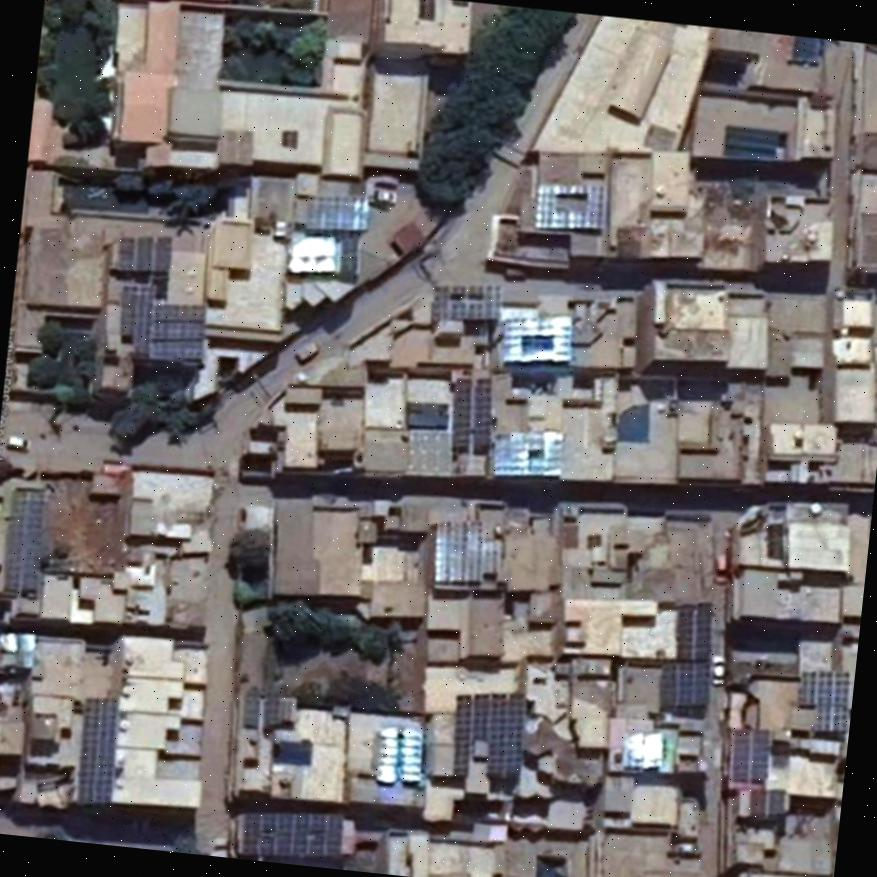Solarpanel: (456, 693, 523, 774), (243, 810, 343, 853), (435, 522, 502, 581), (79, 697, 117, 800), (5, 490, 41, 588), (536, 183, 606, 229), (501, 316, 571, 362), (495, 431, 565, 476), (150, 305, 206, 359), (453, 380, 493, 448), (802, 672, 848, 730), (119, 287, 154, 355), (377, 729, 421, 780), (661, 662, 708, 704), (734, 729, 772, 780), (308, 196, 364, 230), (441, 286, 502, 317), (679, 603, 710, 662), (119, 236, 172, 270)
